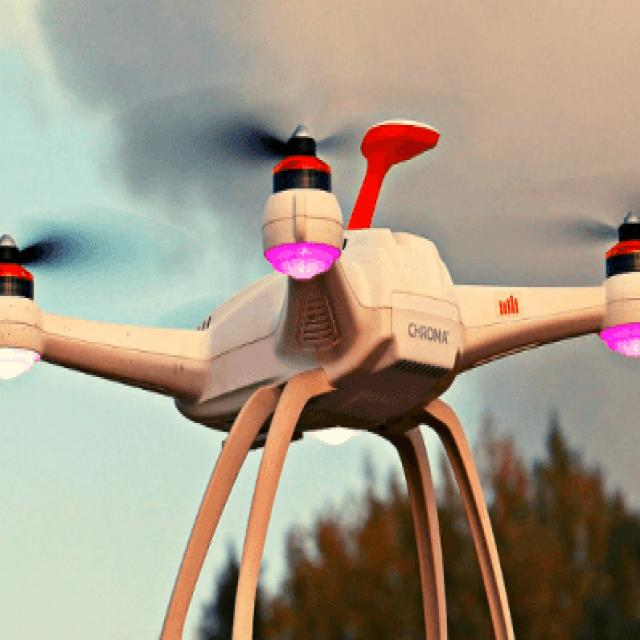drone: (0, 134, 640, 559)
